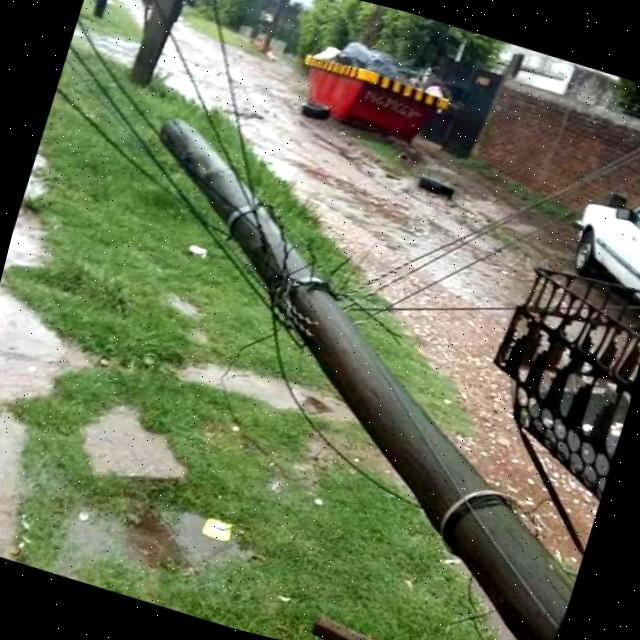Broken Pole: (157, 120, 573, 640)
